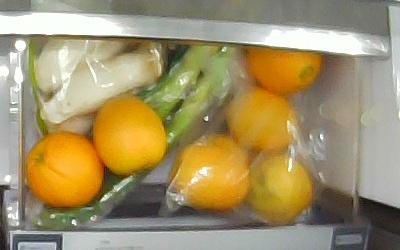orange: (25, 131, 103, 207), (91, 96, 166, 174), (244, 48, 325, 94)
orange_vinyl: (174, 132, 250, 212), (223, 85, 302, 155), (250, 156, 314, 221)
